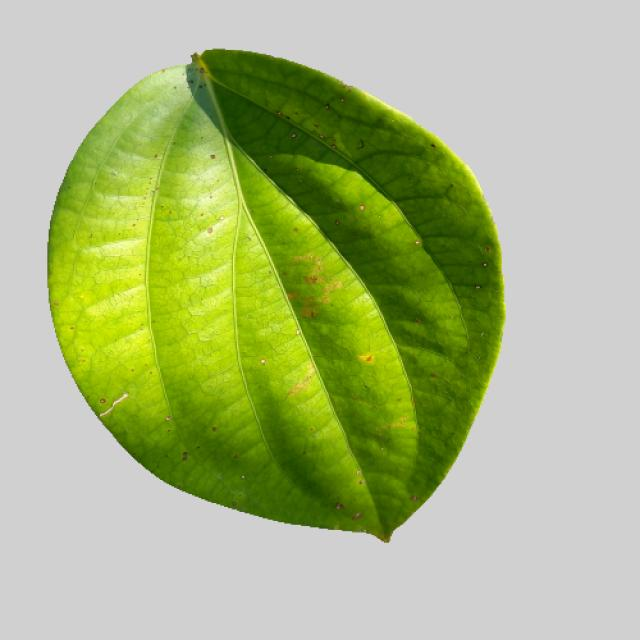healthy: (38, 42, 525, 554)
